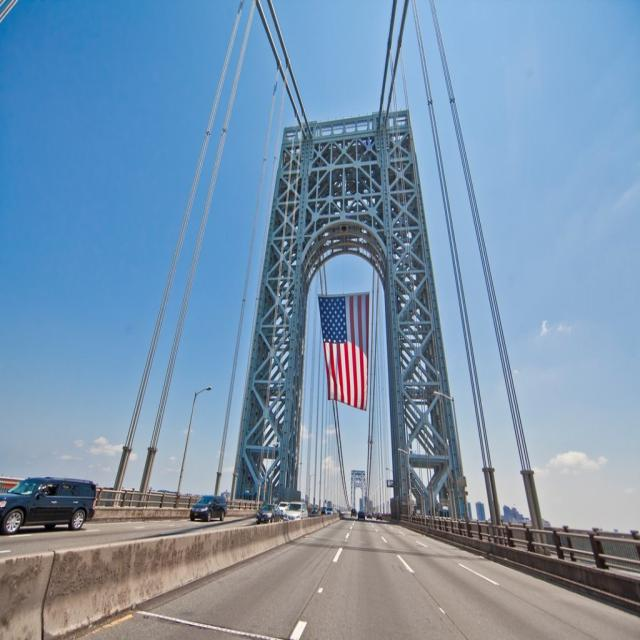car: (189, 492, 230, 518)
